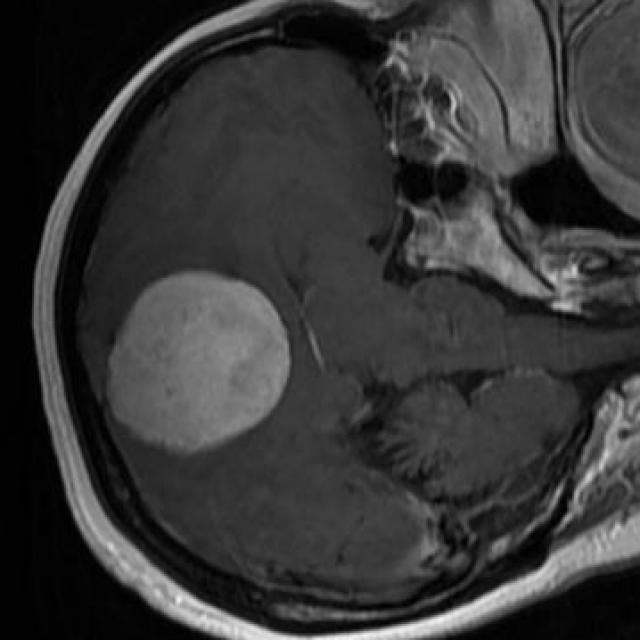meningioma: (107, 271, 292, 455)
